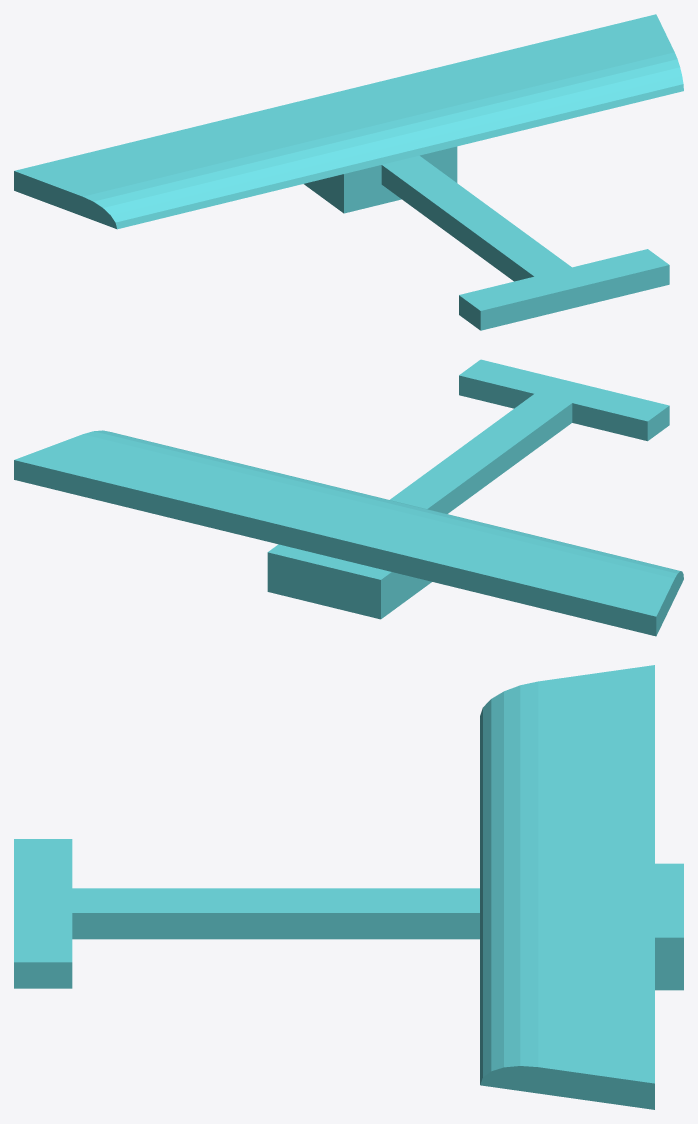
The model's file is BleriotXIMonoplaneCyan.dae.
3 renders of one model, top to bottom at view 1: azimuth 30°, elevation 25°; view 2: azimuth 150°, elevation 25°; view 3: azimuth 270°, elevation 25°, orthographic. The views are drawn at different scales.
Parts seen in each view (by area): view 1: Cube.008, Cube.010, Cube.011, Cube.009; view 2: Cube.008, Cube.010, Cube.011, Cube.009; view 3: Cube.008, Cube.010, Cube.011, Cube.009.
Boxes of the visible parts, left/top/right/bottom form: Cube.008: left=14, top=14, right=683, bottom=229; Cube.010: left=381, top=155, right=571, bottom=281; Cube.011: left=459, top=249, right=669, bottom=330; Cube.009: left=304, top=146, right=457, bottom=213; Cube.008: left=14, top=430, right=683, bottom=636; Cube.010: left=390, top=394, right=572, bottom=513; Cube.011: left=459, top=359, right=669, bottom=441; Cube.009: left=267, top=544, right=431, bottom=619; Cube.008: left=480, top=665, right=654, bottom=1109; Cube.010: left=72, top=888, right=479, bottom=939; Cube.011: left=14, top=839, right=72, bottom=988; Cube.009: left=655, top=863, right=683, bottom=990.
Bounding box in the file's own units: 6.8 × 4.6 × 0.6.
